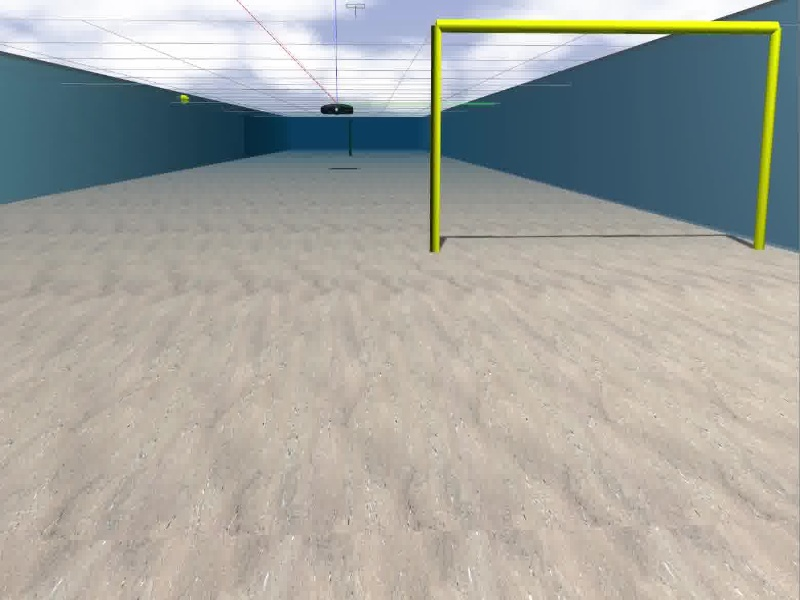gate: (430, 19, 781, 256)
